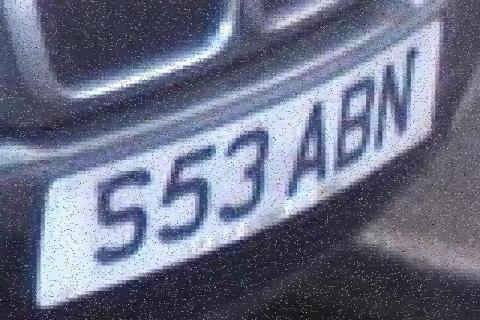LicensePlate: (13, 19, 464, 314)
